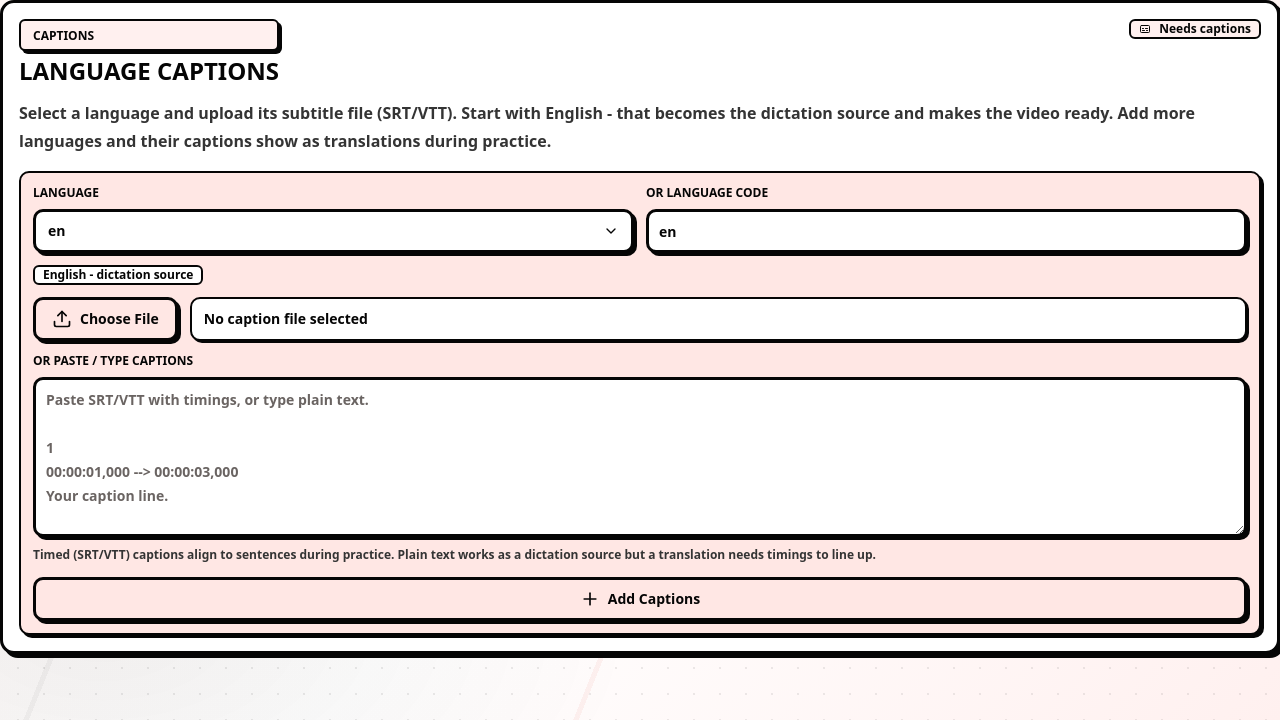
Test: DictationCaptionManager › asks for content when a valid language has no upload or paste
Replace the text in the field with placeholder "e.g. en, ja, pt-br" with "ja": (946, 231) [646,209,1247,253]
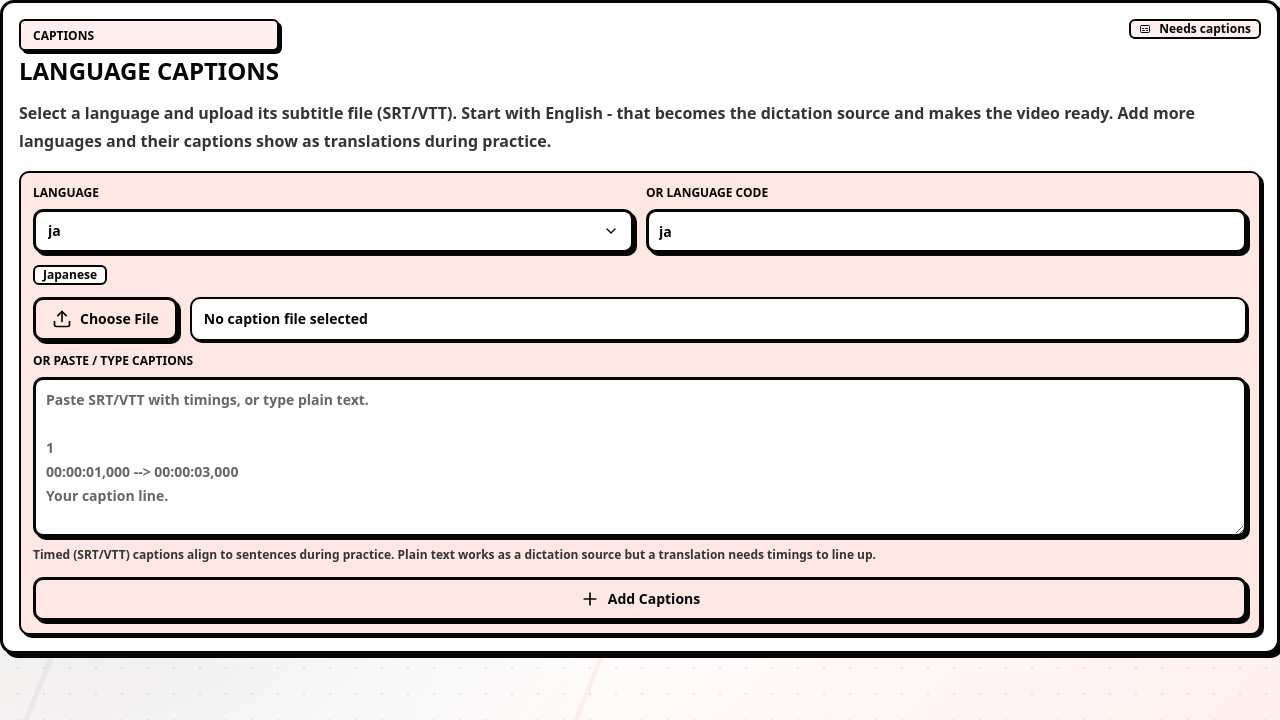
Click the button "Add Captions": (640, 599) [33,577,1247,621]
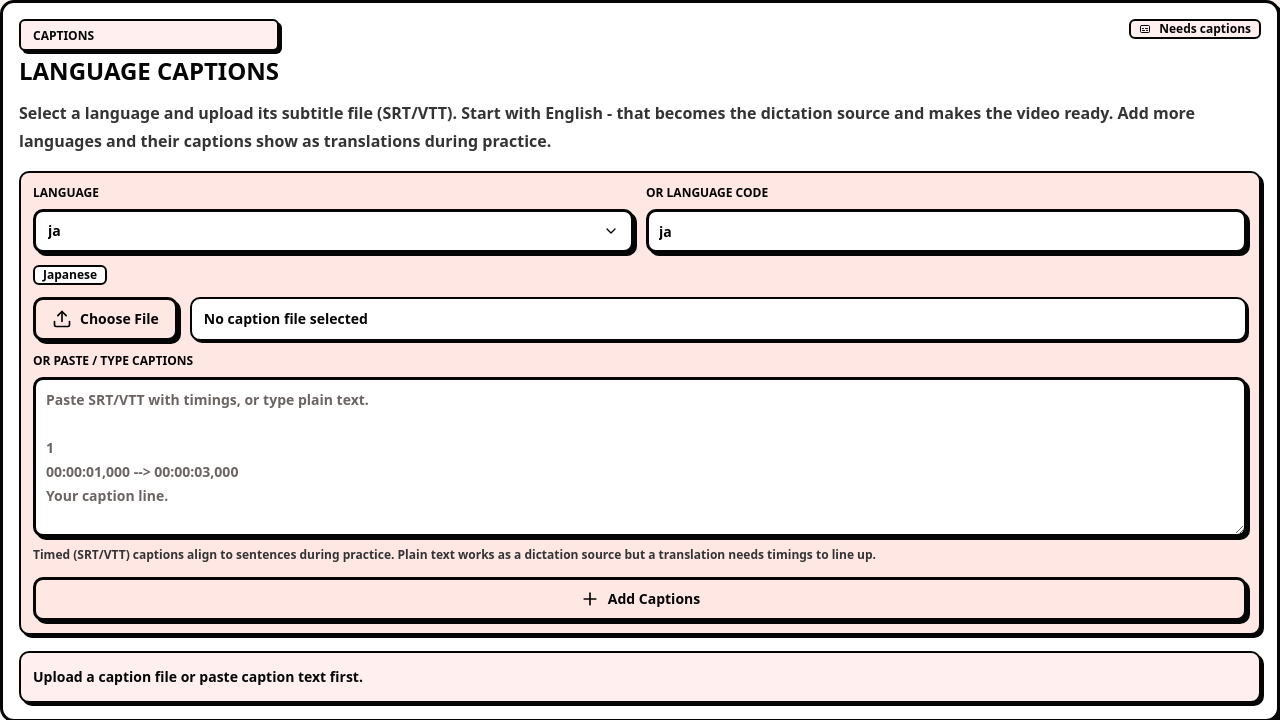
Expected: the text "Upload a caption file or paste caption text first." is shown, [19,651,1261,703]
